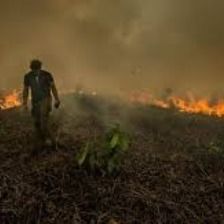incendio: (113, 87, 215, 117), (64, 73, 118, 115), (1, 83, 19, 126)
pessoas: (21, 59, 58, 153)
